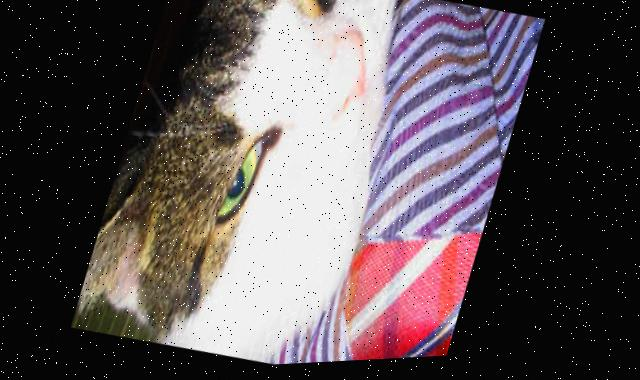cat: (72, 0, 547, 376)
